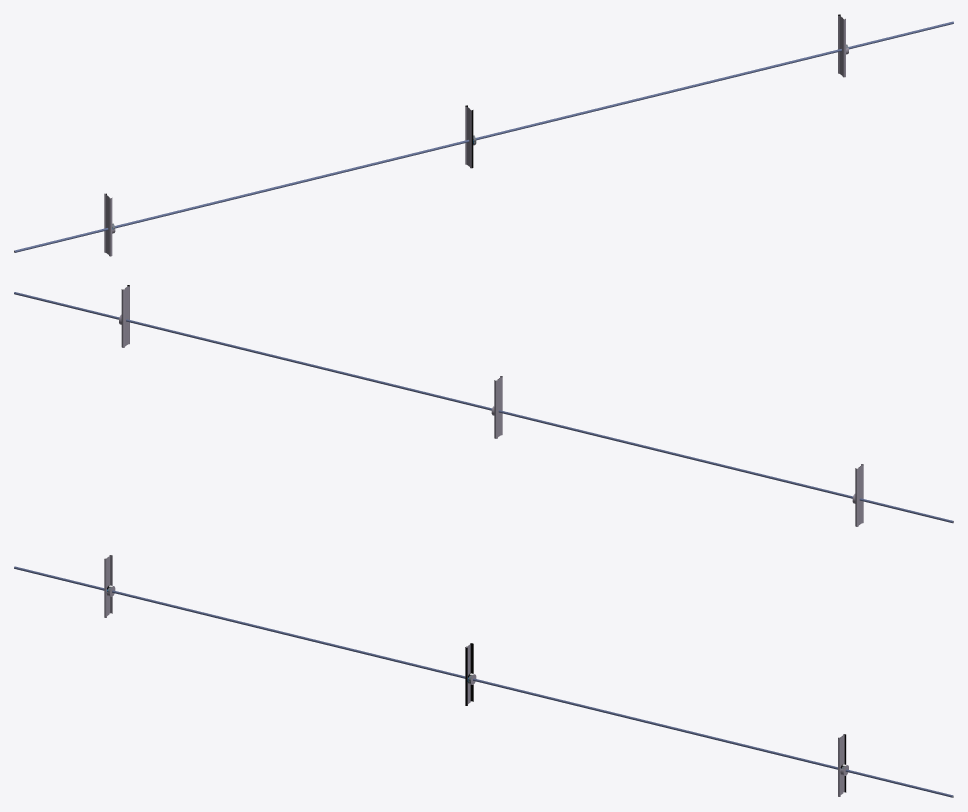
Rendered from PanelBase32m.glb.
3 views of the same model, one above another, from view 1: azimuth 30°, elevation 25°; view 2: azimuth 150°, elevation 25°; view 3: azimuth 330°, elevation 25° (orthographic).
Visible parts, largest first — view 1: Cylinder.001; view 2: Cylinder.001; view 3: Cylinder.001.
Part boxes in pixels (bbox=[...]): Cylinder.001: bbox=[14, 14, 953, 256]; Cylinder.001: bbox=[14, 285, 953, 526]; Cylinder.001: bbox=[14, 555, 953, 797].
Size of the model in its own units: 31.92 by 1.89 by 0.3766.
Materials: 3 (1 with a texture image).
